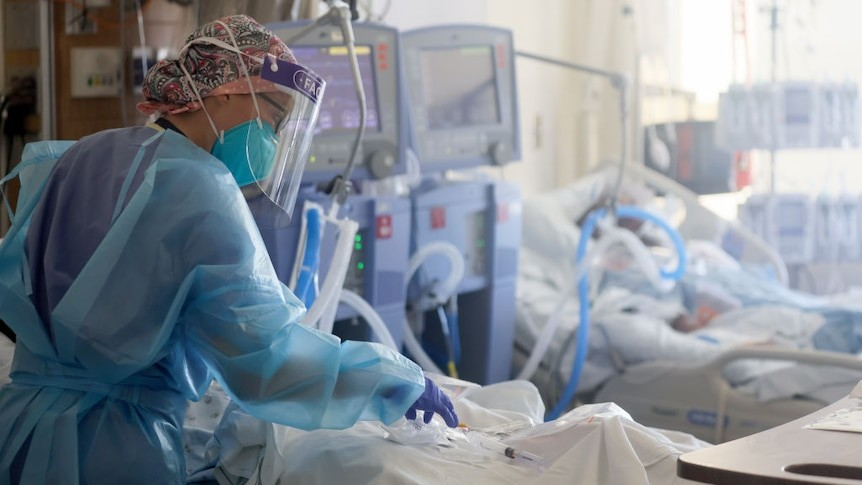Coverall: (1, 125, 429, 485)
Face_Shield: (244, 51, 330, 219)
Gloves: (405, 376, 461, 433)
with_mask: (207, 100, 286, 196)
